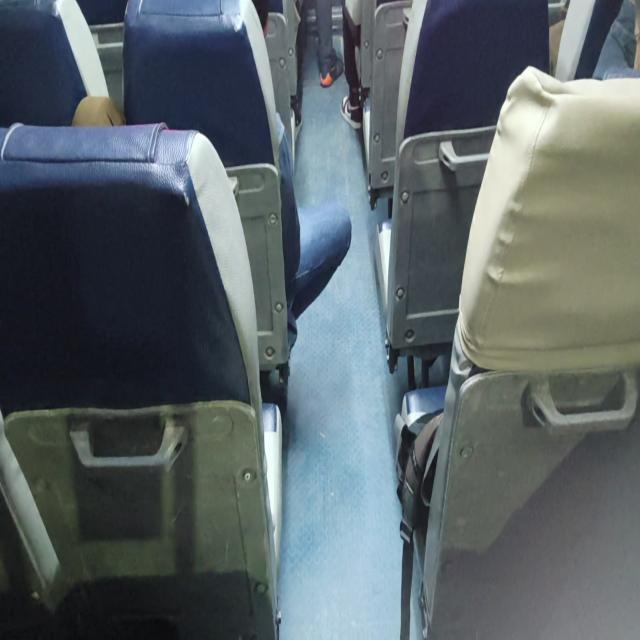person: (593, 0, 640, 83)
